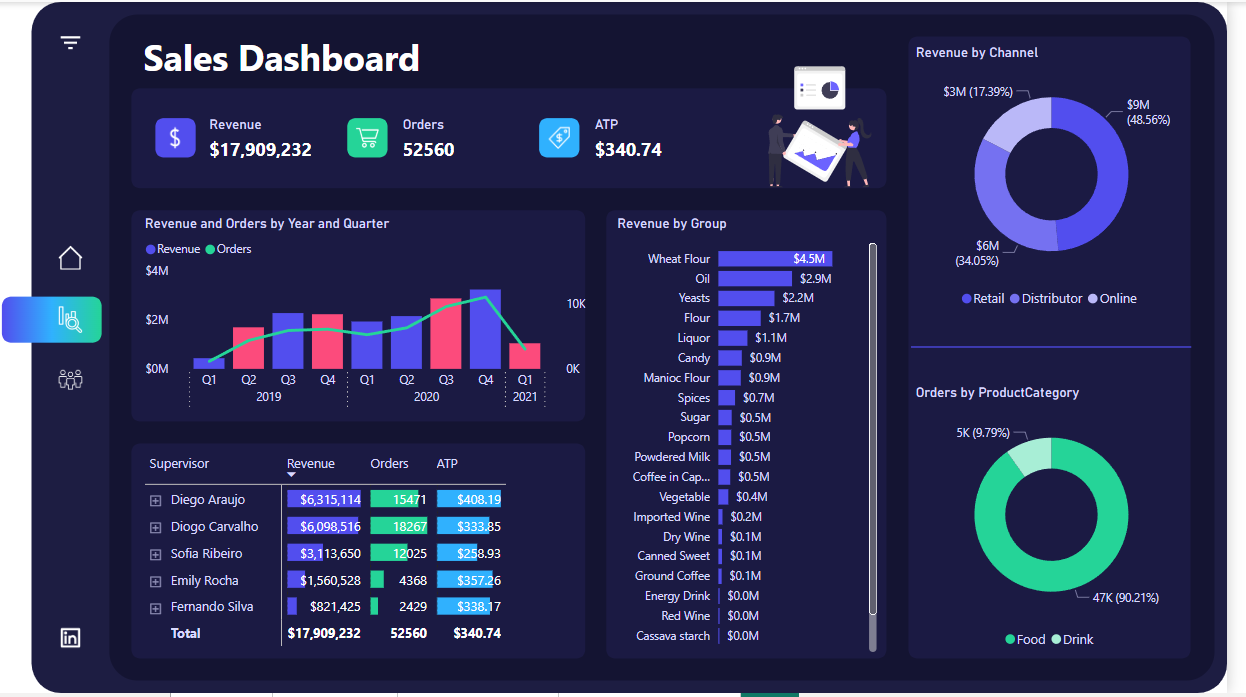

The page's visual inventory and layout, read from the dashboard file:
{"tool":"powerbi","page":{"name":"Sales","canvas":[1280,720],"ordinal":0},"visuals":[{"type":"multiRowCard","title":"Revenue","fields":{"Values":["Key Measures.Revenue"]},"box":[214.1,119.3,121.9,57.8],"z":0},{"type":"multiRowCard","title":"Orders","fields":{"Values":["Key Measures.Orders"]},"box":[415.8,119.3,121.9,57.8],"z":1000},{"type":"multiRowCard","title":"ATP","fields":{"Values":["Key Measures.ATP"]},"box":[615.8,118.8,121.9,57.8],"z":2000},{"type":"lineClusteredColumnComboChart","fields":{"Y2":["Key Measures.Orders"],"Category":["dCalendar.Year","dCalendar.Quarter"],"Y":["Key Measures.Revenue"]},"box":[146.9,221.9,468.9,211],"z":3000},{"type":"pivotTable","fields":{"Rows":["dSalesperson.Supervisor","dSalesperson.Salesperson"],"Values":["Key Measures.Revenue","Key Measures.Orders","Key Measures.ATP"]},"box":[146.9,461.1,468.9,220.4],"z":4000},{"type":"clusteredBarChart","fields":{"Category":["dGroup.Group"],"Y":["Key Measures.Revenue"]},"box":[640,222,280,460],"z":5000},{"type":"donutChart","fields":{"Y":["Key Measures.Revenue"],"Category":["dSalesperson.Channel"]},"box":[950,44,292,284],"z":6000},{"type":"donutChart","fields":{"Y":["Key Measures.Orders"],"Category":["dProduct.ProductCategory"]},"box":[950,398,292,284],"z":7000},{"type":"shape","box":[950,284,292,150],"z":8000},{"type":"textbox","box":[146,26,494,64],"z":9000},{"type":"actionButton","box":[0,368,118,50],"z":10000},{"type":"actionButton","title":"Show Button","box":[0,12,118,60],"z":12000}]}

Visuals, with their boxes on the page's 1280x720 design canvas (x1, y1, x2, y2). These are canvas units, not pixel positions in the 1246x697 screenshot, which may show the page scaled, cropped or inside an application window:
"Revenue" multiRowCard: left=214, top=119, right=336, bottom=177
"Orders" multiRowCard: left=416, top=119, right=538, bottom=177
"ATP" multiRowCard: left=616, top=119, right=738, bottom=177
lineClusteredColumnComboChart - Key Measures.Orders x dCalendar.Year: left=147, top=222, right=616, bottom=433
pivotTable - dSalesperson.Supervisor x dSalesperson.Salesperson: left=147, top=461, right=616, bottom=682
clusteredBarChart - dGroup.Group x Key Measures.Revenue: left=640, top=222, right=920, bottom=682
donutChart - Key Measures.Revenue x dSalesperson.Channel: left=950, top=44, right=1242, bottom=328
donutChart - Key Measures.Orders x dProduct.ProductCategory: left=950, top=398, right=1242, bottom=682
shape: left=950, top=284, right=1242, bottom=434
textbox: left=146, top=26, right=640, bottom=90
actionButton: left=0, top=368, right=118, bottom=418
"Show Button" actionButton: left=0, top=12, right=118, bottom=72
